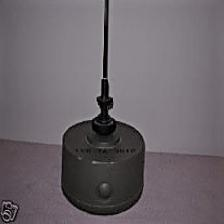M21: (41, 66, 163, 216)
